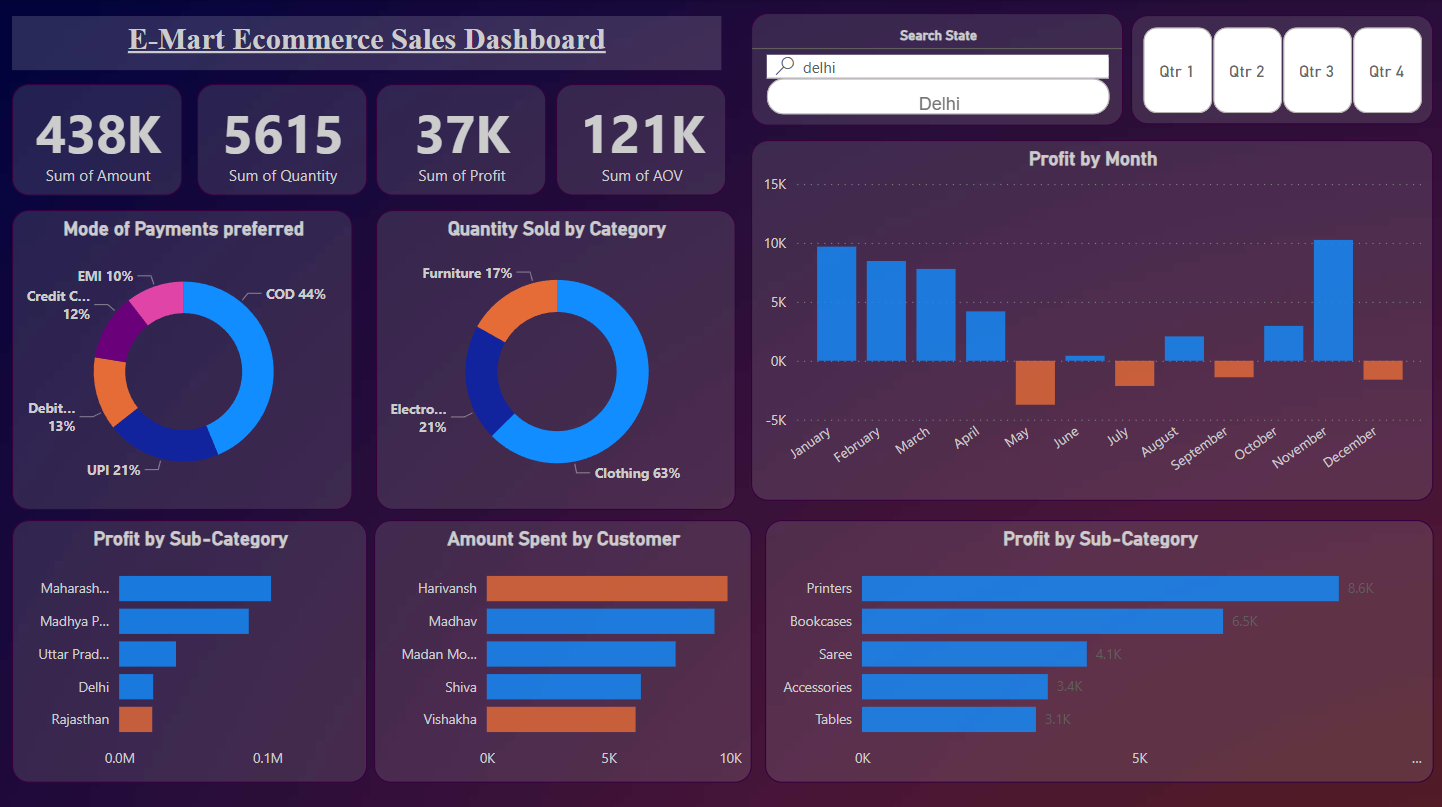

Layout of this report page (visuals, bound fields, positions):
{"tool":"powerbi","page":{"name":"Page 1","canvas":[1280,720],"ordinal":0},"visuals":[{"type":"textbox","box":[10.7,14.6,629.3,47.7],"z":0},{"type":"columnChart","title":"Profit by Month","fields":{"Category":["Orders.Order Date.Variation.Date Hierarchy.Month"],"Y":["Sum(Details.Profit)"]},"box":[666.3,124.5,605,320],"z":1000},{"type":"barChart","title":"Profit by Sub-Category","fields":{"Category":["Details.Sub-Category"],"Y":["Sum(Details.Profit)"]},"box":[677.9,461,593.3,233.4],"z":2000},{"type":"donutChart","title":"Quantity Sold by Category","fields":{"Category":["Details.Category"],"Y":["Sum(Details.Quantity)"]},"box":[333.6,185.8,319,265.5],"z":3000},{"type":"donutChart","title":"Mode of Payments preferred","fields":{"Y":["Sum(Details.Quantity)"],"Category":["Details.PaymentMode"]},"box":[10.7,185.8,302.5,265.5],"z":4000},{"type":"card","fields":{"Values":["Sum(Details.Amount)"]},"box":[10.7,74.9,150.8,99.2],"z":5000},{"type":"card","fields":{"Values":["Sum(Details.Quantity)"]},"box":[175.1,74.9,150.8,99.2],"z":6000},{"type":"card","fields":{"Values":["Sum(Details.Profit)"]},"box":[333.6,74.9,150.8,99.2],"z":7000},{"type":"card","fields":{"Values":["Sum(Details.AOV)"]},"box":[493.1,74.9,150.8,99.2],"z":8000},{"type":"barChart","title":"Profit by Sub-Category","fields":{"Category":["Orders.State"],"Y":["Sum(Details.Amount)"]},"box":[10.7,461,315.1,233.4],"z":9000},{"type":"clusteredBarChart","title":"Amount Spent by Customer","fields":{"Category":["Orders.CustomerName"],"Y":["Sum(Details.Amount)"]},"box":[331.7,461,334.6,233.4],"z":10000},{"type":"advancedSlicerVisual","fields":{"Values":["Orders.Order Date.Variation.Date Hierarchy.Quarter"]},"box":[1002.9,13.6,268.4,96.9],"z":11000},{"type":"advancedSlicerVisual","title":"Search State","fields":{"Values":["Orders.State"]},"box":[666.3,11.7,329.7,100.2],"z":12000}]}

Visuals, with their boxes in screenshot pixels (x1, y1, x2, y2), scaled from the page's 1280x720 canvas onto the 1442x807 screenshot:
textbox: bbox=(12, 16, 721, 70)
"Profit by Month" columnChart: bbox=(751, 140, 1432, 498)
"Profit by Sub-Category" barChart: bbox=(764, 517, 1432, 778)
"Quantity Sold by Category" donutChart: bbox=(376, 208, 735, 506)
"Mode of Payments preferred" donutChart: bbox=(12, 208, 353, 506)
card - Sum(Details.Amount): bbox=(12, 84, 182, 195)
card - Sum(Details.Quantity): bbox=(197, 84, 367, 195)
card - Sum(Details.Profit): bbox=(376, 84, 546, 195)
card - Sum(Details.AOV): bbox=(556, 84, 725, 195)
"Profit by Sub-Category" barChart: bbox=(12, 517, 367, 778)
"Amount Spent by Customer" clusteredBarChart: bbox=(374, 517, 751, 778)
advancedSlicerVisual - Orders.Order Date.Variation.Date Hierarchy.Quarter: bbox=(1130, 15, 1432, 124)
"Search State" advancedSlicerVisual: bbox=(751, 13, 1122, 125)
